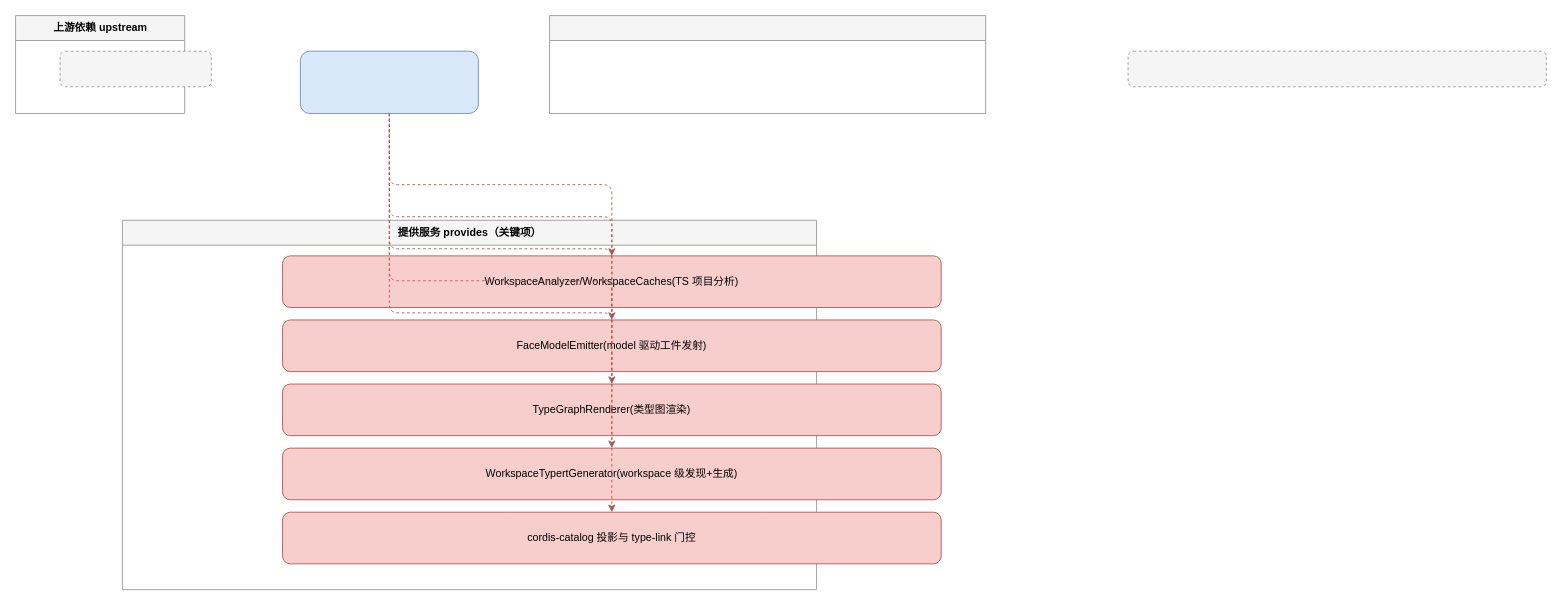
This 1562x605 diagram has some shape labels left out. Each missing label, with the centre of its shape:
"@deepseek-ai/dsh-typert-generator" goes at point 388,81.
"下游被依赖 dependents" goes at point 767,64.
"无上游" goes at point 135,68.
"无下游" goes at point 1336,68.
